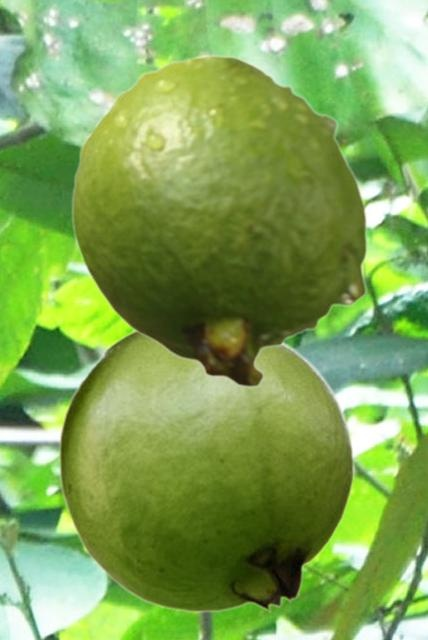guava: (70, 53, 367, 387), (57, 330, 354, 613)
